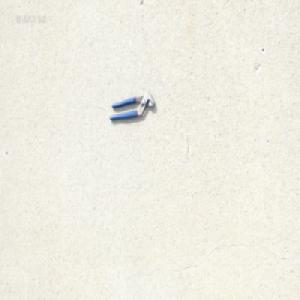Pliers: (109, 91, 156, 122)
